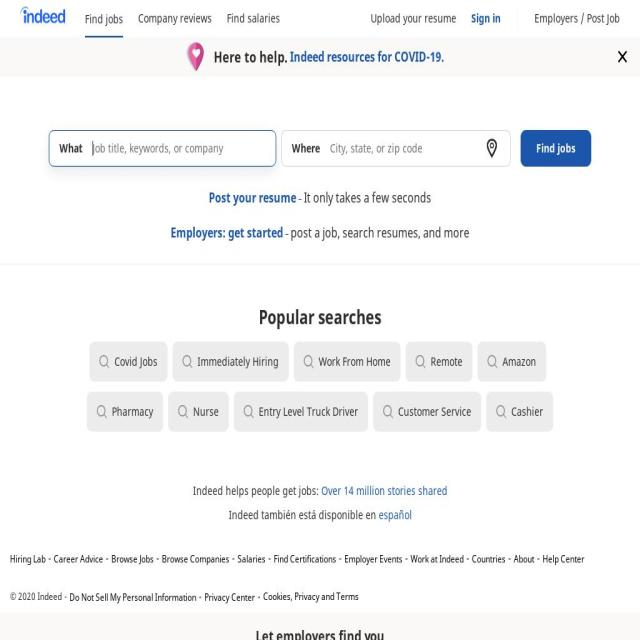button: (234, 392, 368, 432), (172, 342, 289, 382), (293, 342, 401, 382), (373, 392, 481, 432), (534, 0, 620, 38), (371, 0, 456, 38), (89, 342, 168, 382), (87, 392, 163, 432), (290, 47, 444, 66), (138, 0, 212, 38), (477, 342, 546, 382), (405, 342, 473, 382), (486, 392, 553, 432), (521, 130, 591, 167), (168, 392, 229, 432), (227, 0, 280, 38), (263, 588, 359, 606), (85, 1, 123, 38), (20, 6, 70, 27), (471, 10, 501, 27)
field: (92, 130, 266, 167), (330, 130, 500, 167)
image: (181, 36, 211, 76), (20, 6, 70, 23), (619, 47, 626, 66)
label: (292, 141, 320, 156), (59, 141, 82, 156)
link: (320, 482, 448, 498), (70, 590, 196, 604), (162, 552, 229, 566), (274, 552, 336, 566), (344, 552, 402, 566), (411, 552, 464, 566), (204, 590, 255, 604), (54, 552, 103, 566), (111, 552, 154, 566), (542, 552, 584, 566), (378, 507, 412, 522), (10, 552, 46, 566), (472, 552, 506, 566), (238, 552, 266, 566), (514, 552, 534, 566)
text: (0, 305, 640, 328), (10, 626, 630, 640), (290, 223, 470, 242), (304, 188, 431, 207), (228, 507, 379, 522), (171, 223, 283, 242), (192, 482, 322, 498), (259, 403, 358, 420), (209, 188, 296, 207), (534, 9, 620, 27), (213, 46, 290, 66), (371, 9, 456, 27), (197, 353, 279, 370), (138, 9, 212, 27), (318, 353, 391, 370), (398, 403, 471, 420), (10, 588, 69, 606), (227, 9, 280, 27), (114, 353, 158, 370), (112, 403, 153, 420), (85, 10, 123, 28), (502, 353, 536, 370), (430, 353, 462, 370), (511, 403, 543, 420), (471, 10, 501, 27), (510, 2, 524, 35), (193, 403, 219, 420), (303, 355, 314, 368), (415, 355, 426, 368), (99, 355, 109, 368), (182, 355, 192, 368), (487, 355, 497, 368), (97, 405, 107, 418), (178, 405, 188, 418), (244, 405, 254, 418), (383, 405, 393, 418), (496, 405, 506, 418), (296, 192, 304, 206), (283, 227, 291, 241)
